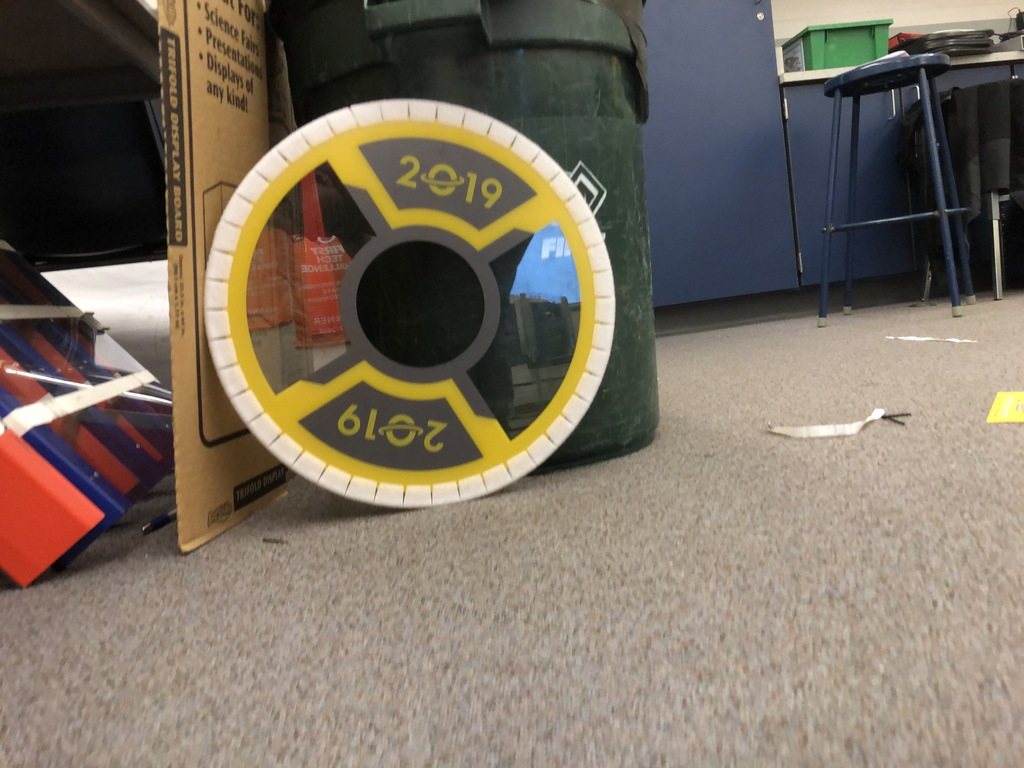hatch_panel: (187, 79, 632, 526)
